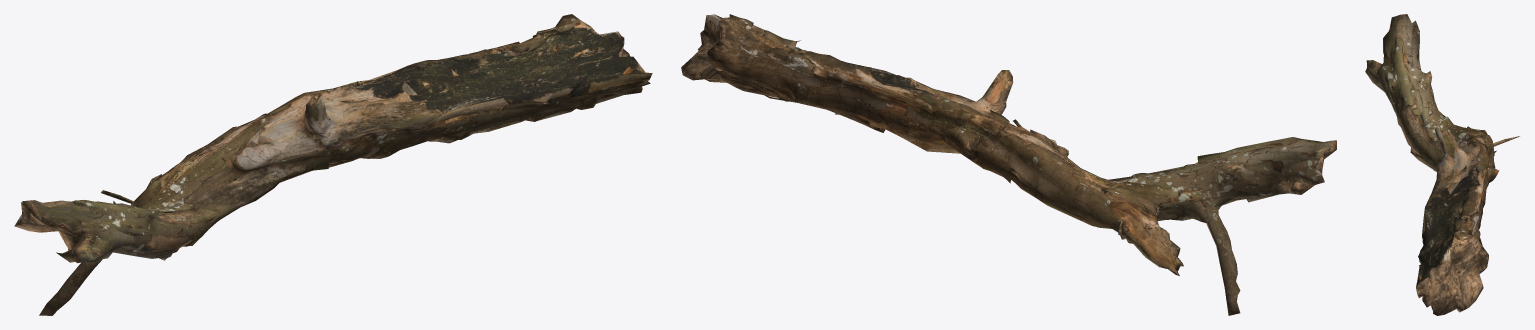
The model's file is log_2.gltf.
3 renders of one model, left to right at view 1: azimuth 30°, elevation 25°; view 2: azimuth 150°, elevation 25°; view 3: azimuth 270°, elevation 25°, orthographic. The views are drawn at different scales.
Parts seen in each view (by area): view 1: log_2; view 2: log_2; view 3: log_2.
Part boxes in pixels (box(x1,y1,x2,y2)): log_2: box(14, 14, 652, 315); log_2: box(681, 14, 1336, 315); log_2: box(1365, 14, 1519, 315).
Size of the model in its own units: 4.05 by 1.05 by 1.05.
Materials: 1 (1 with a texture image).
